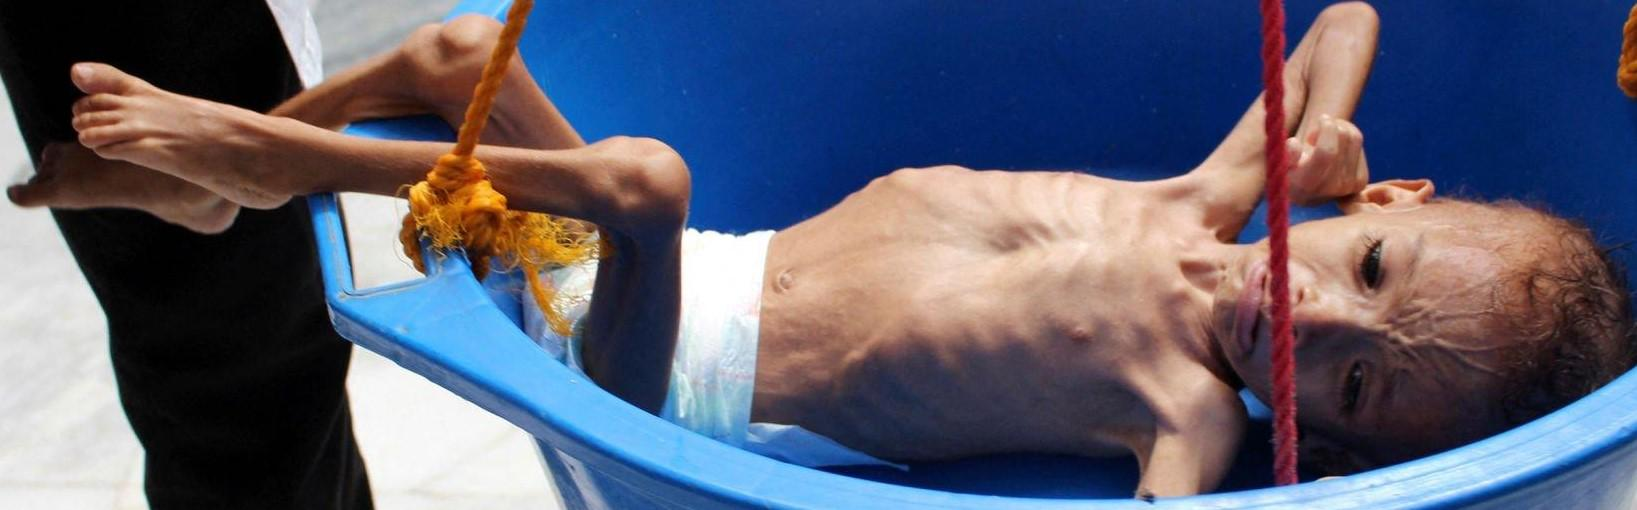Stunting: (1234, 114, 1576, 497)
